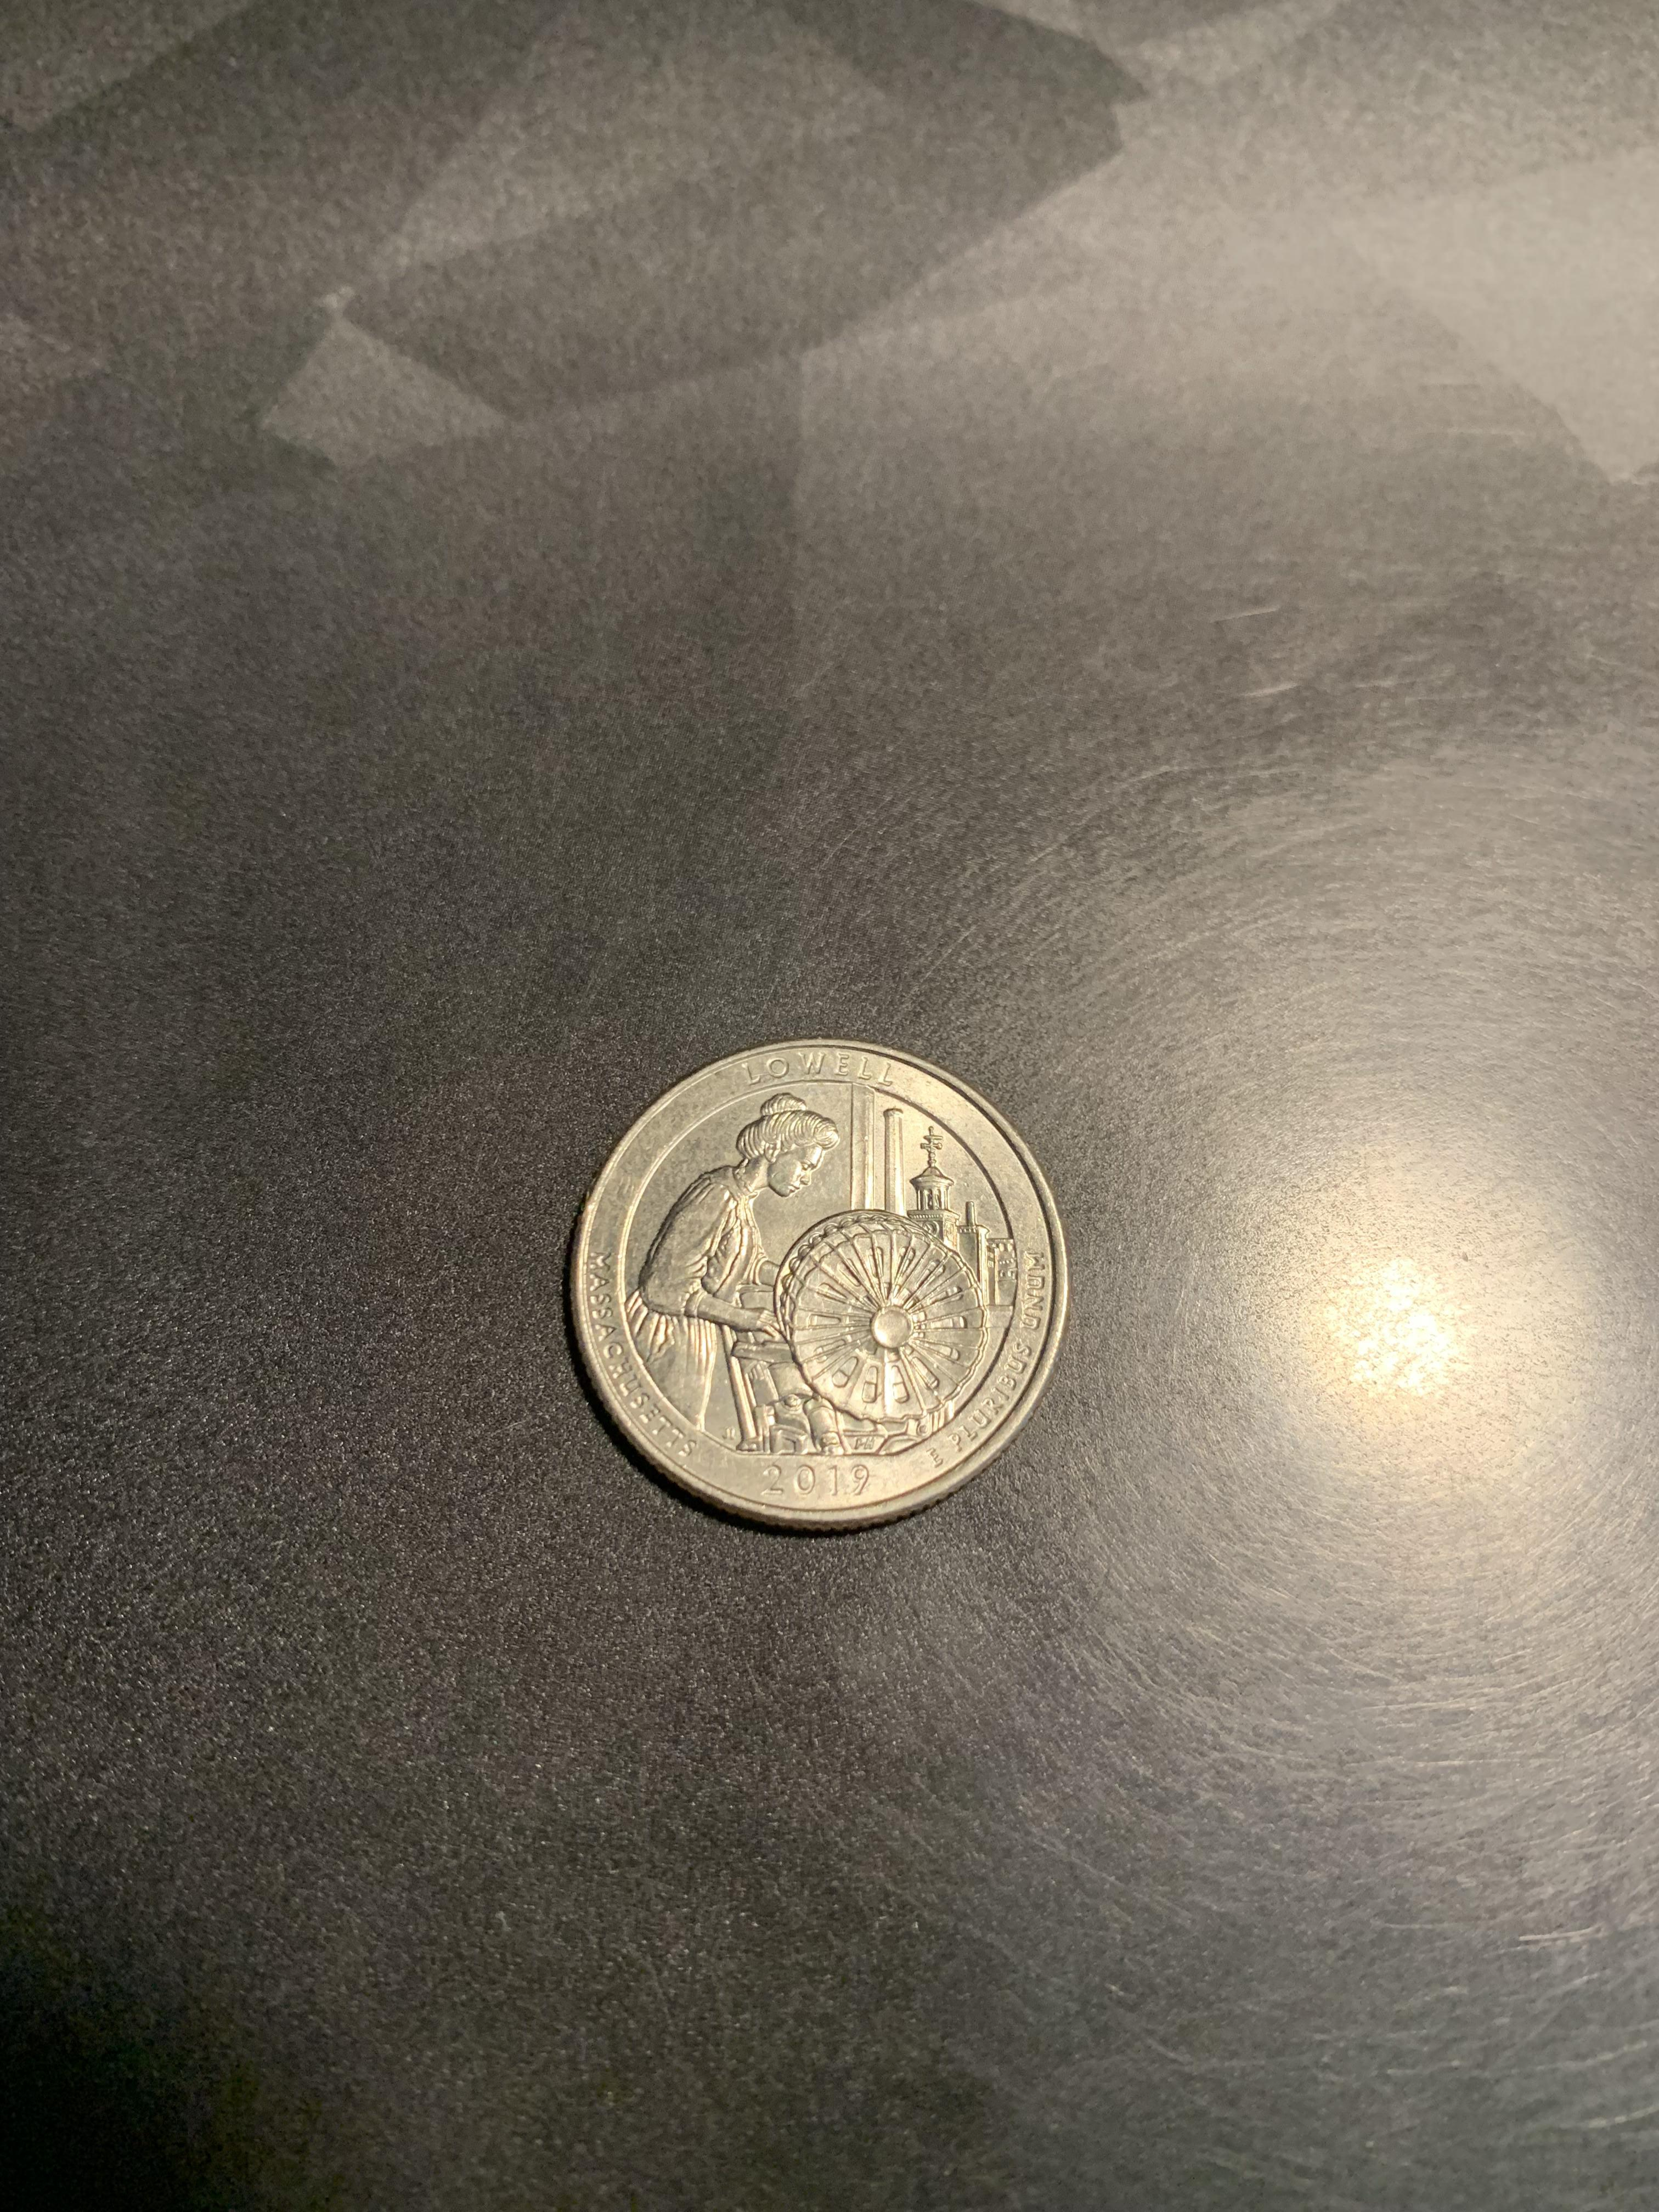Quarter: (542, 1015, 1100, 1557)
